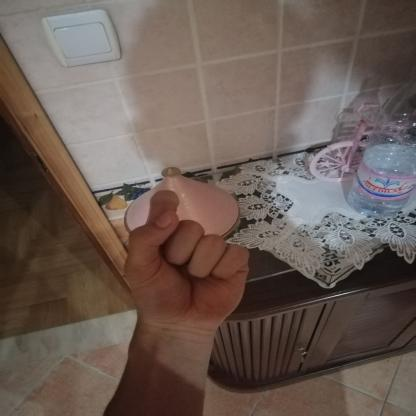FAA: (112, 182, 266, 340)
